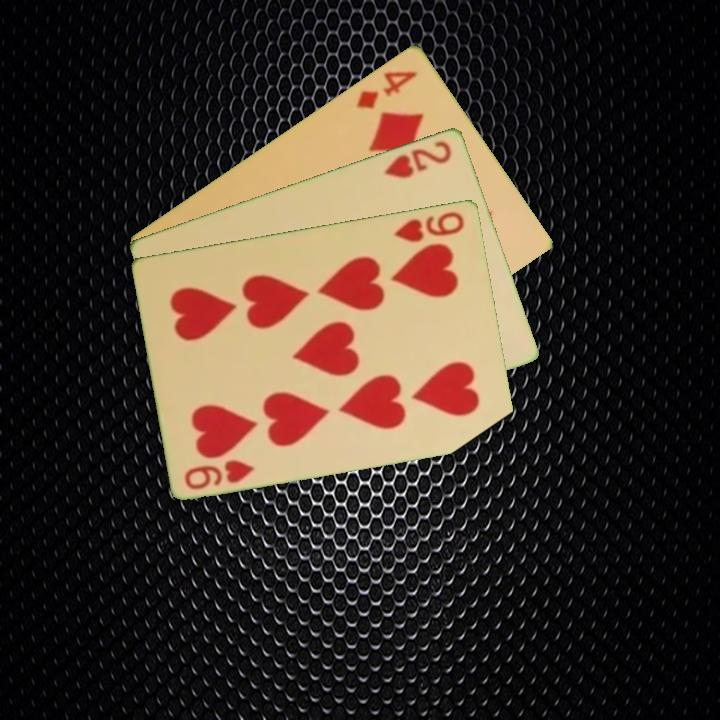2h: (381, 136, 455, 181)
4d: (353, 66, 420, 112)
9h: (390, 207, 468, 245), (181, 455, 258, 492)
